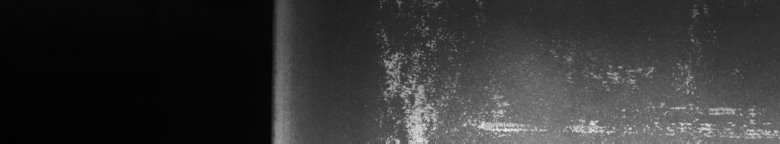kb: (376, 4, 776, 135)
